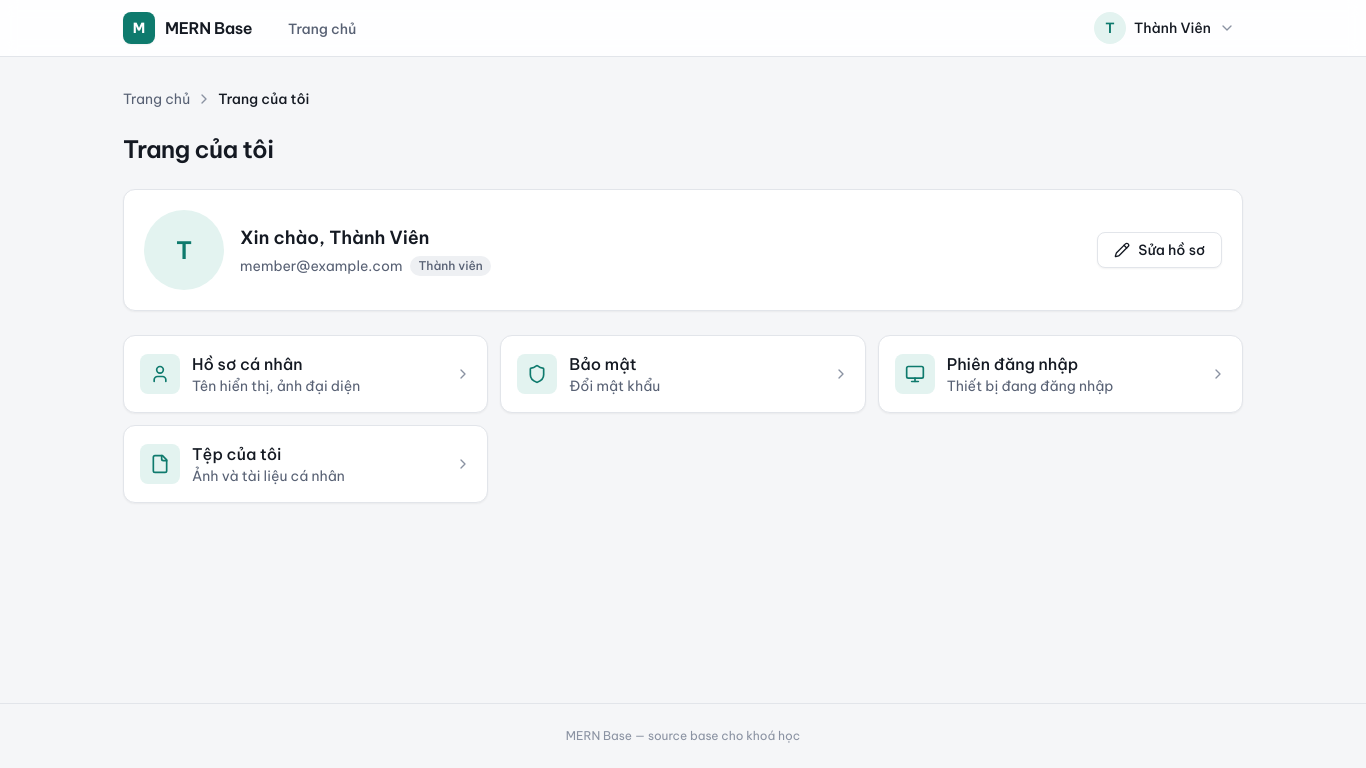
Test: [bai-05] Menu người dùng › nhấn Escape → đóng menu
Step 1. Click the button "T Thành Viên" → (1167, 28), box [1090, 8, 1243, 48]
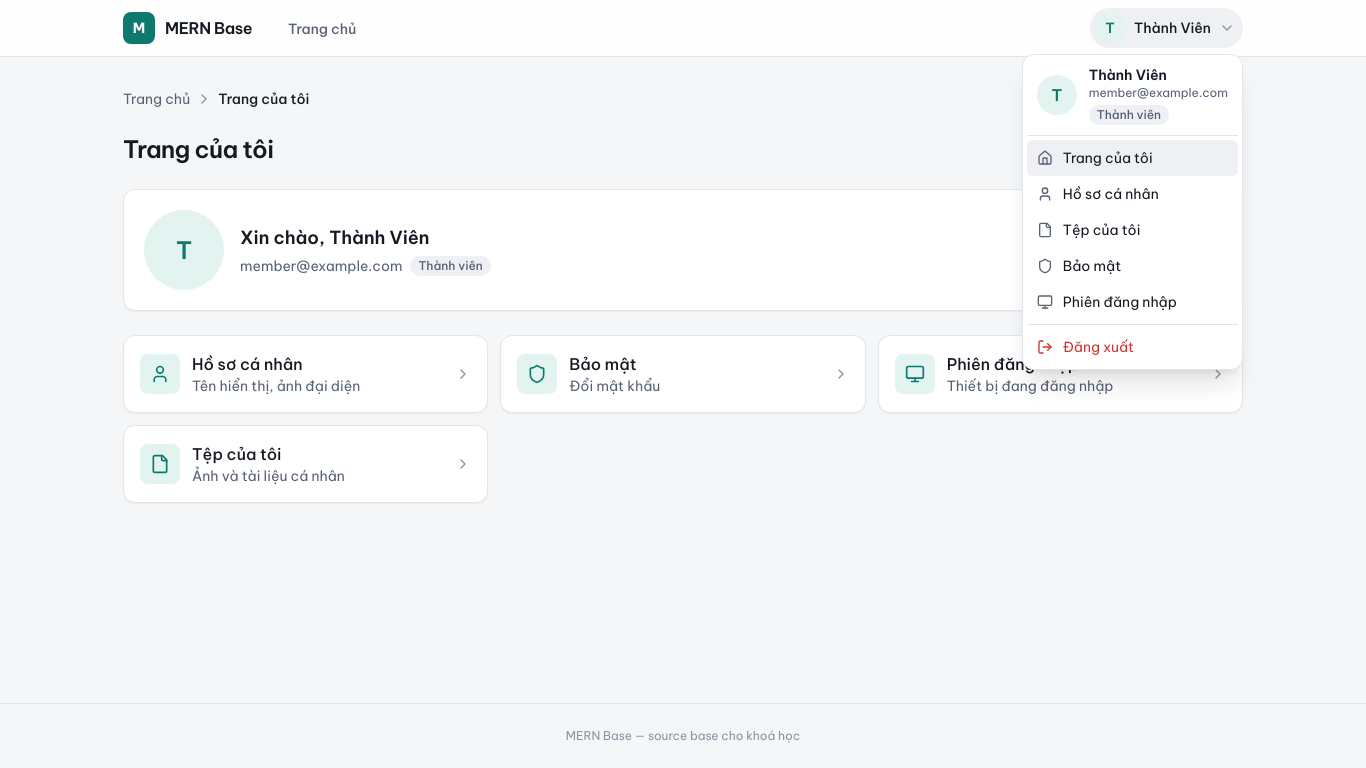
Step 2. Press Escape
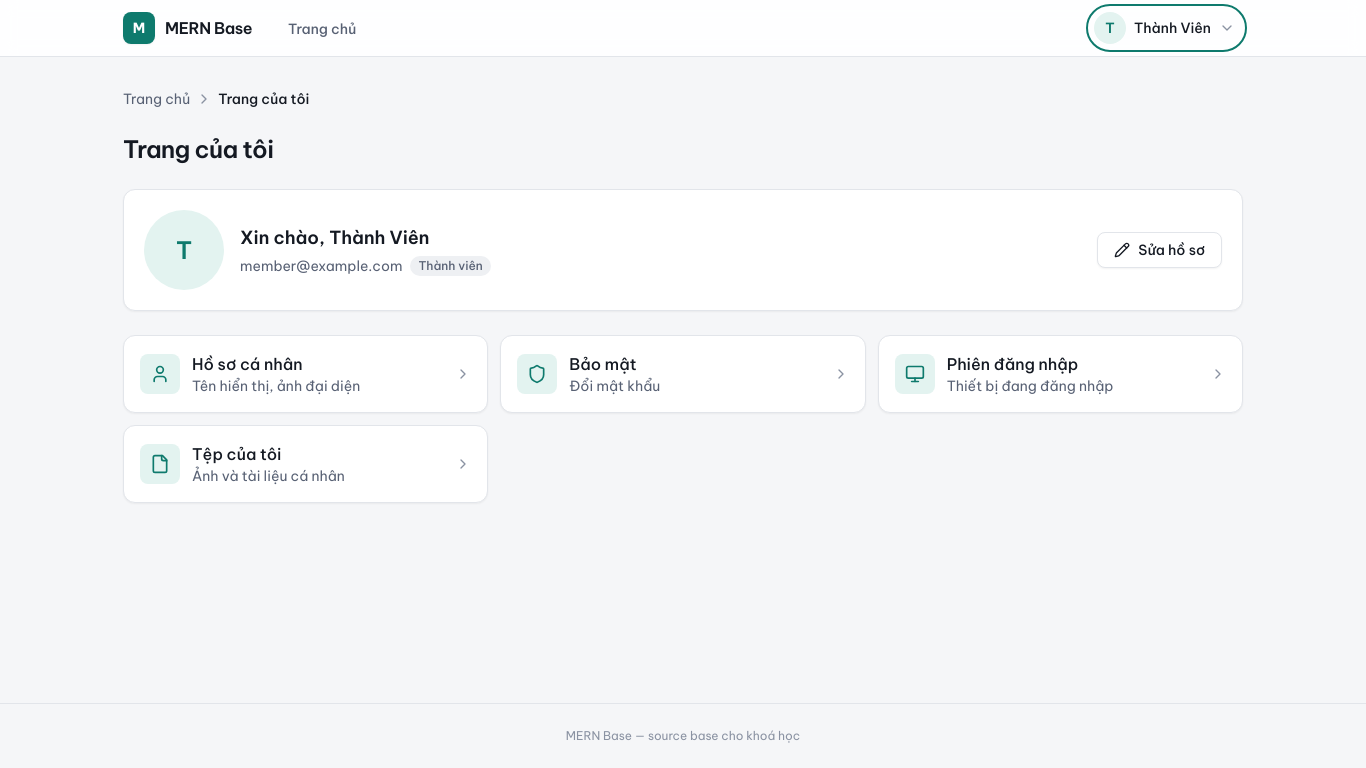
Expected: the button "T Thành Viên" is collapsed, [1090, 8, 1243, 48]
